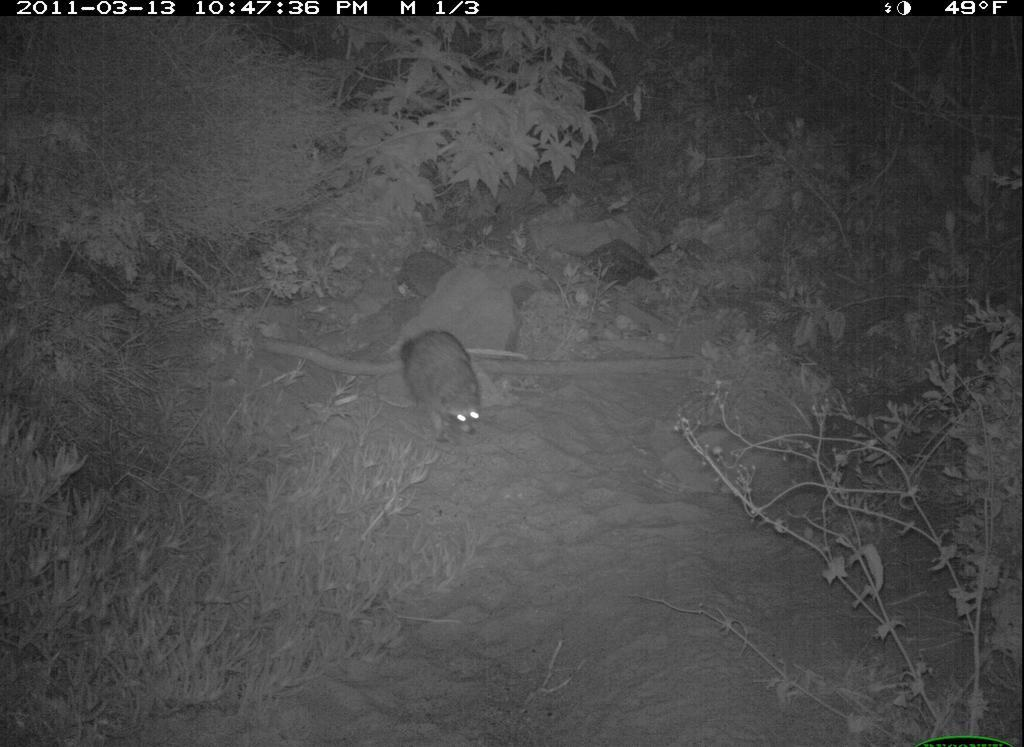raccoon: (393, 322, 491, 450)
